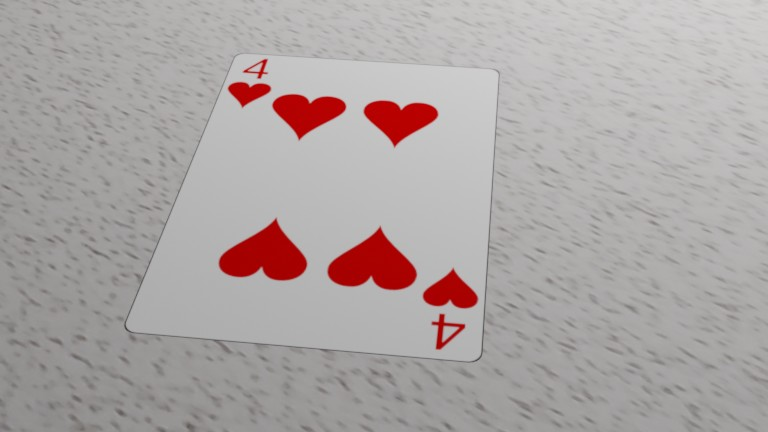4_of_hearts: (164, 106, 193, 142), (87, 23, 114, 44)
